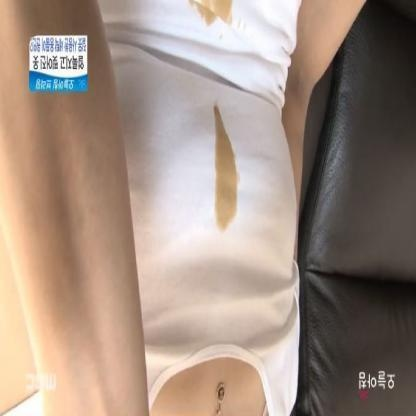coffee: (217, 137, 231, 228)
